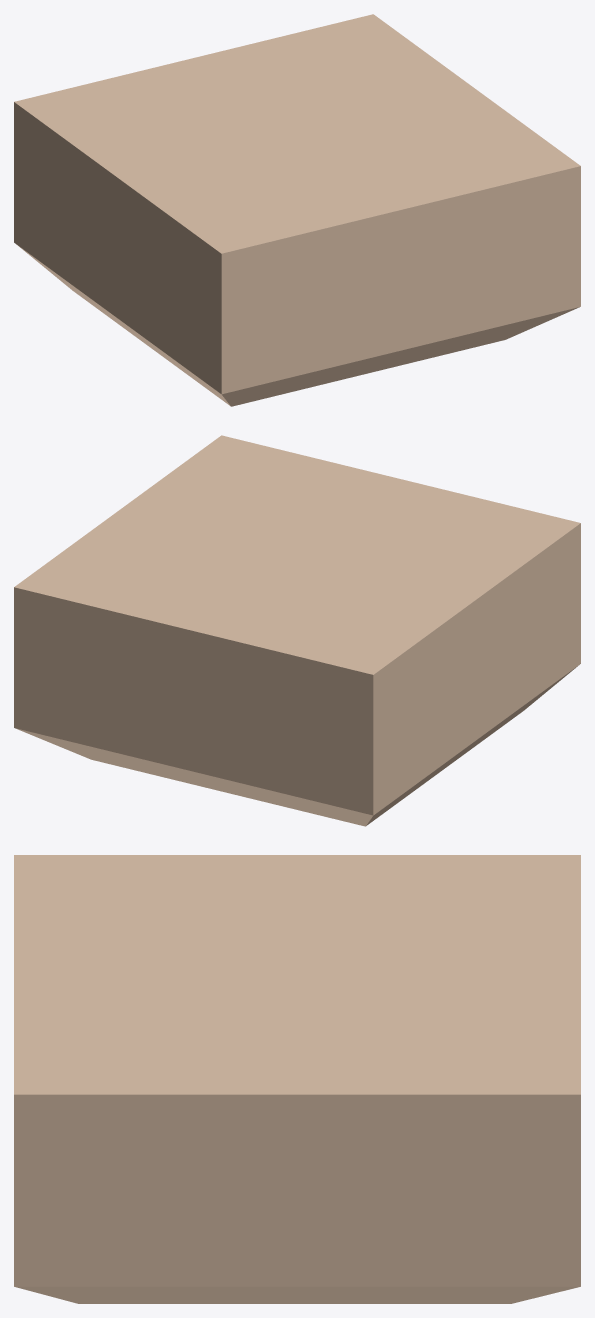
The model's file is Collum.fbx.
The picture shows the model from 3 angles, top to bottom: view 1: azimuth 30°, elevation 25°; view 2: azimuth 150°, elevation 25°; view 3: azimuth 270°, elevation 25°; orthographic projection. The views are drawn at different scales.
Visible parts, largest first — view 1: Plane.001; view 2: Plane.001; view 3: Plane.001.
Part boxes in pixels (box(x1,y1,x2,y2)): Plane.001: box(14, 14, 580, 406); Plane.001: box(14, 435, 580, 826); Plane.001: box(14, 855, 580, 1303).
Bounding box in the file's own units: 58.25 × 27.64 × 58.25.
